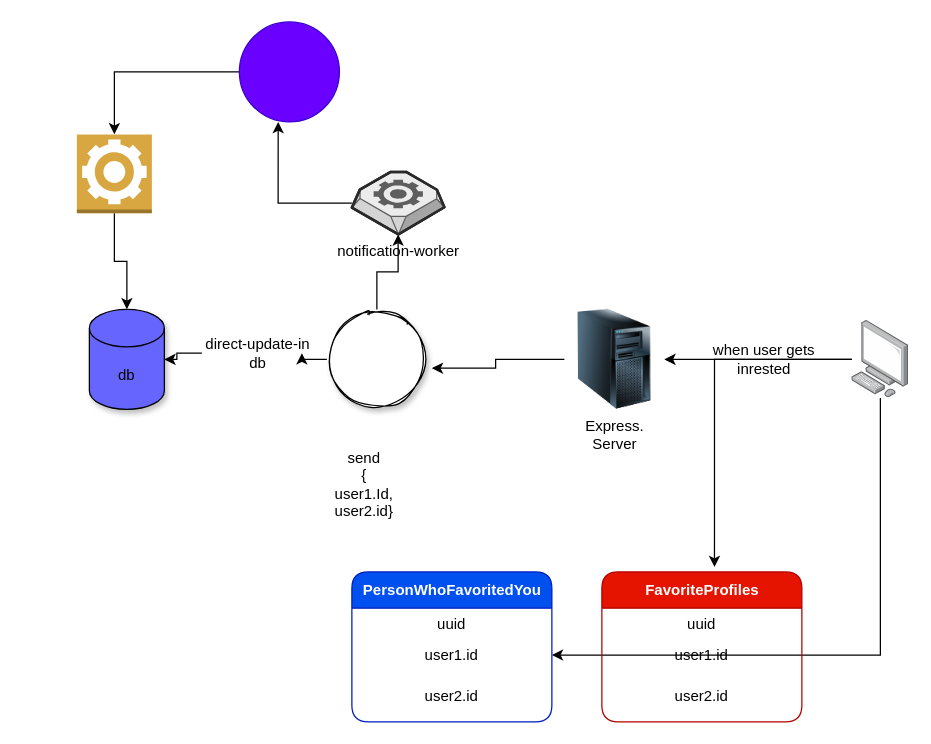
This 931x744 diagram has some shape labels left out. Here are the shapes that lost their labels. From the top down, the centre of each, then its label:
At pixel 288 71: "message-queue".
At pixel 114 173: "notification-job-done-worker".
At pixel 377 360: "create business logic".
